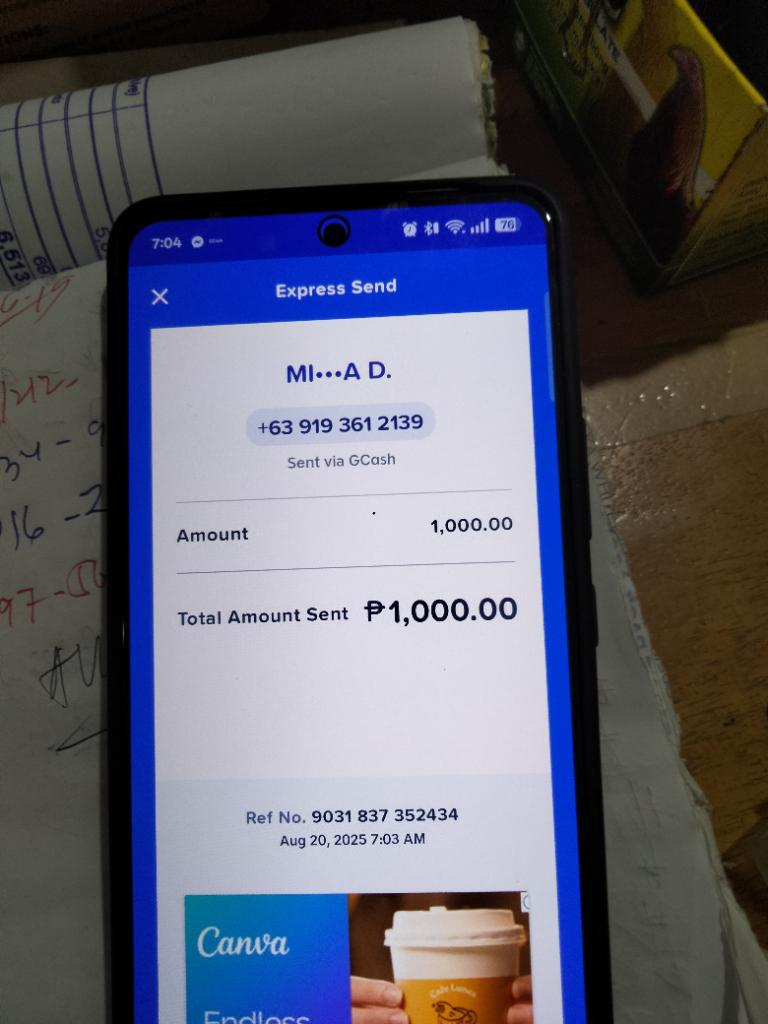Receipt: (131, 249, 585, 1023)
